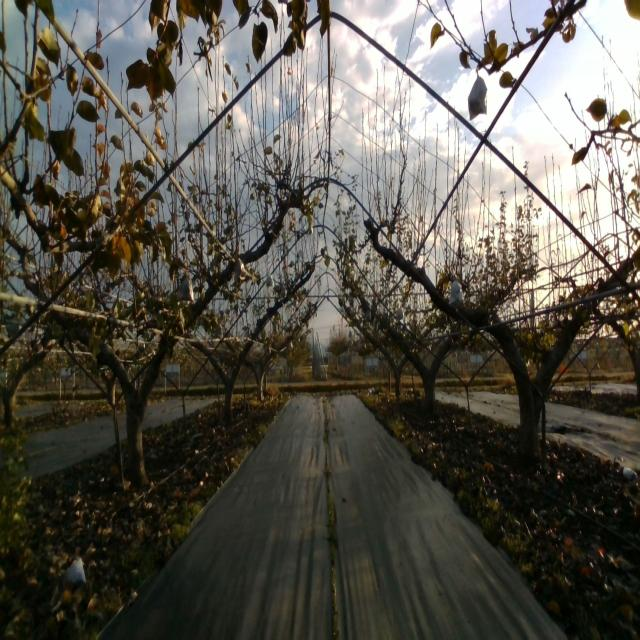pearbags: (468, 69, 487, 120), (176, 272, 194, 304), (448, 281, 464, 306), (234, 257, 245, 283)
